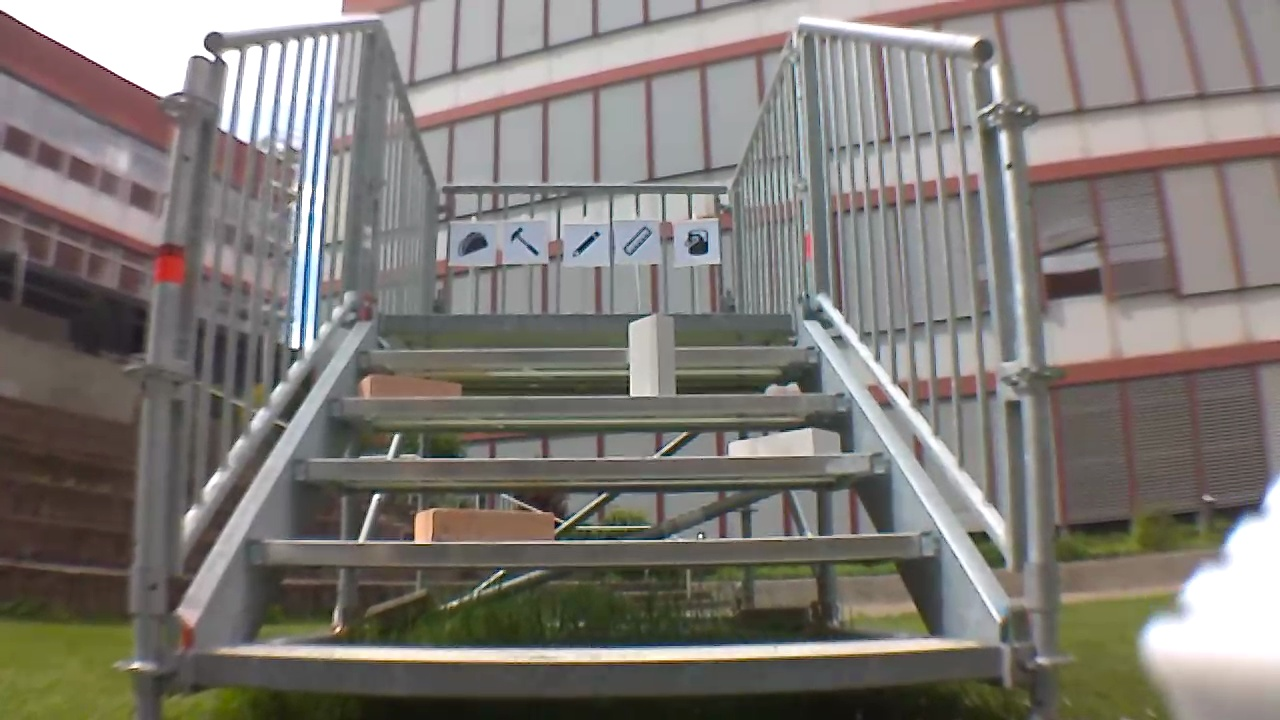brick: (416, 508, 553, 541), (630, 314, 674, 395), (730, 429, 839, 454), (358, 375, 458, 397)
bucket: (682, 225, 713, 261)
edge: (199, 644, 998, 690), (250, 533, 936, 564), (294, 453, 886, 477), (325, 393, 854, 416), (358, 345, 817, 364), (378, 312, 794, 331)
hammer: (507, 224, 543, 259)
pencil: (568, 229, 606, 261)
ruler: (621, 222, 654, 258)
stairs: (122, 15, 1066, 719)
steps: (192, 305, 1003, 694)
taco: (455, 229, 490, 260)
